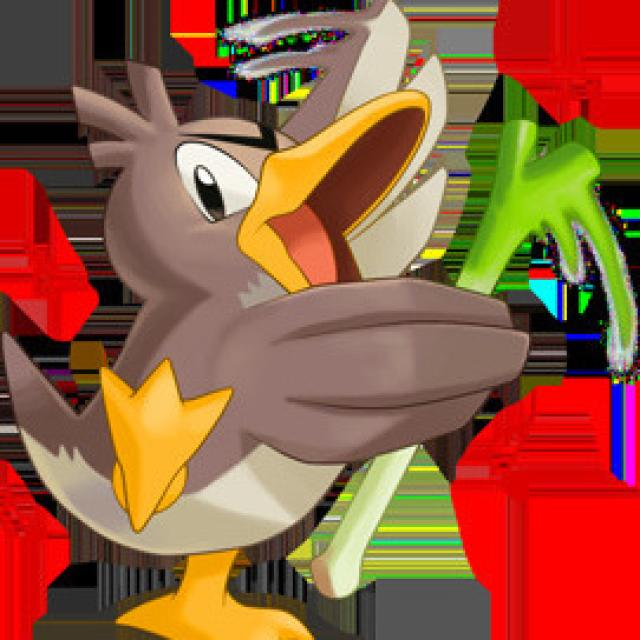Farfetchd: (33, 67, 504, 560)
